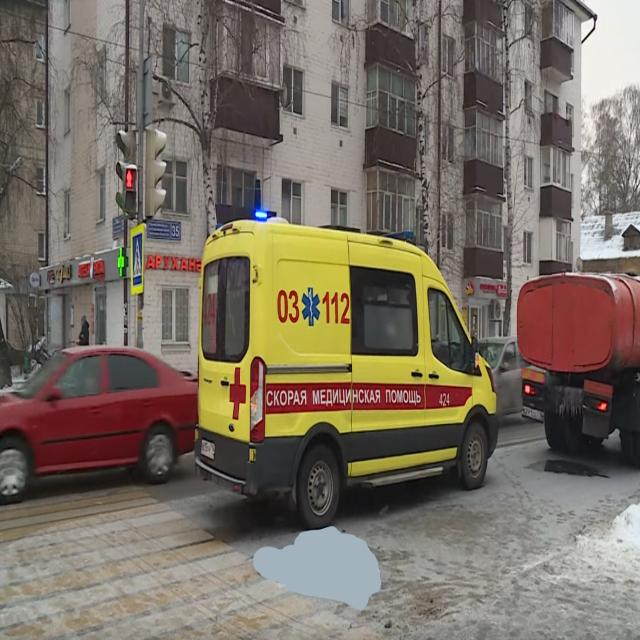intensive care unit: (194, 211, 504, 532)
non emergency car: (1, 346, 198, 507), (517, 270, 640, 469), (478, 339, 534, 427)
